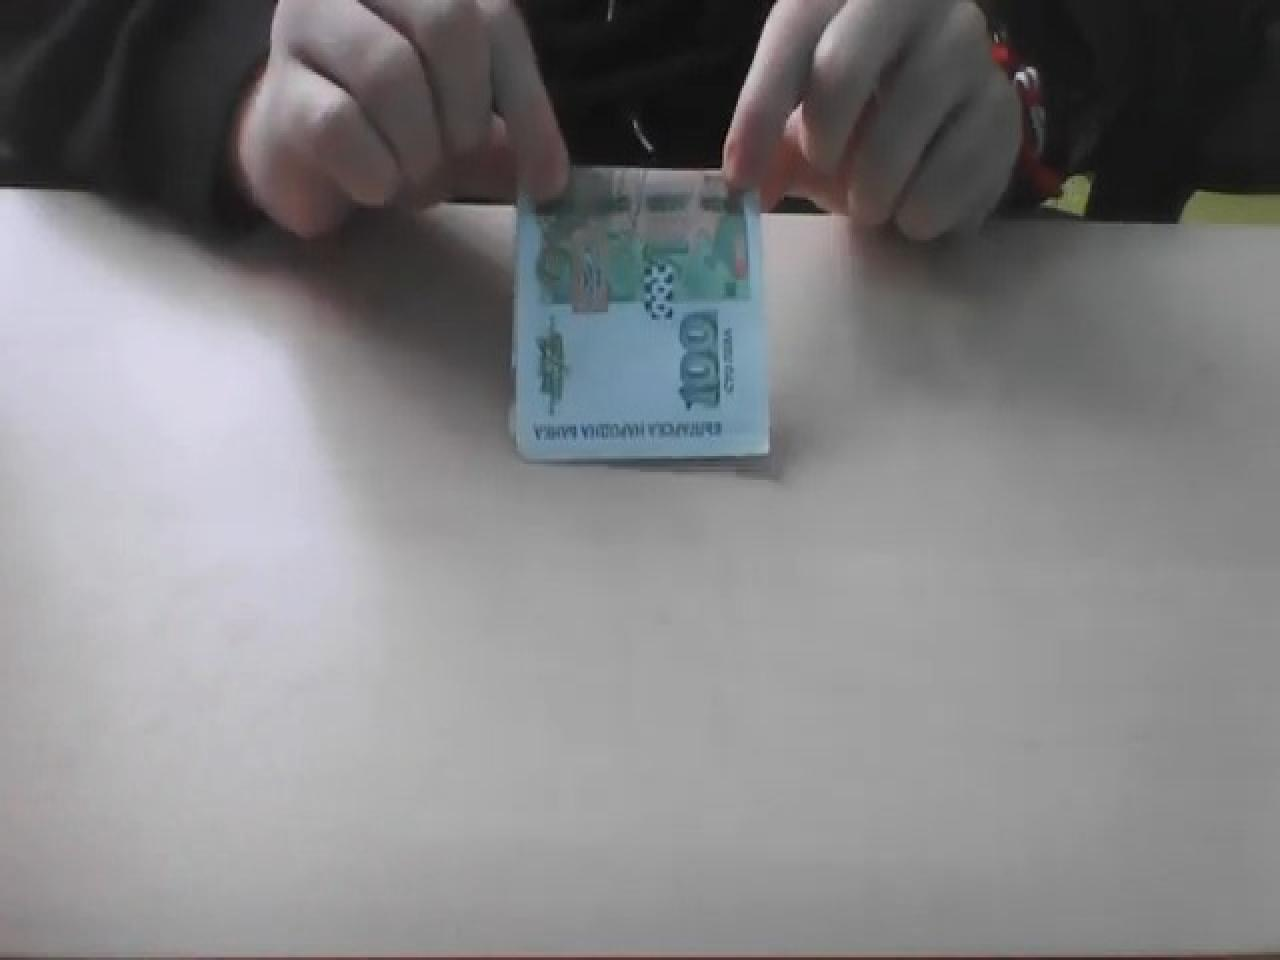100leva: (512, 165, 774, 469)
